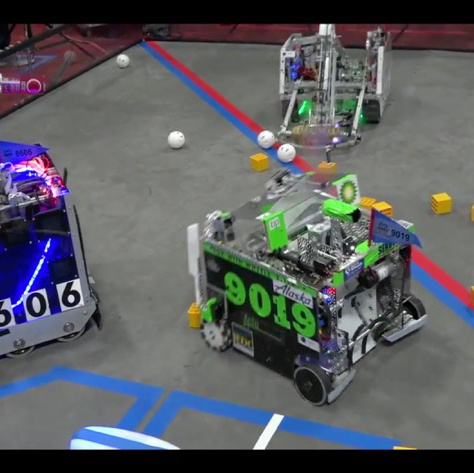robot: (184, 164, 428, 406), (0, 137, 102, 366), (275, 21, 393, 148)
